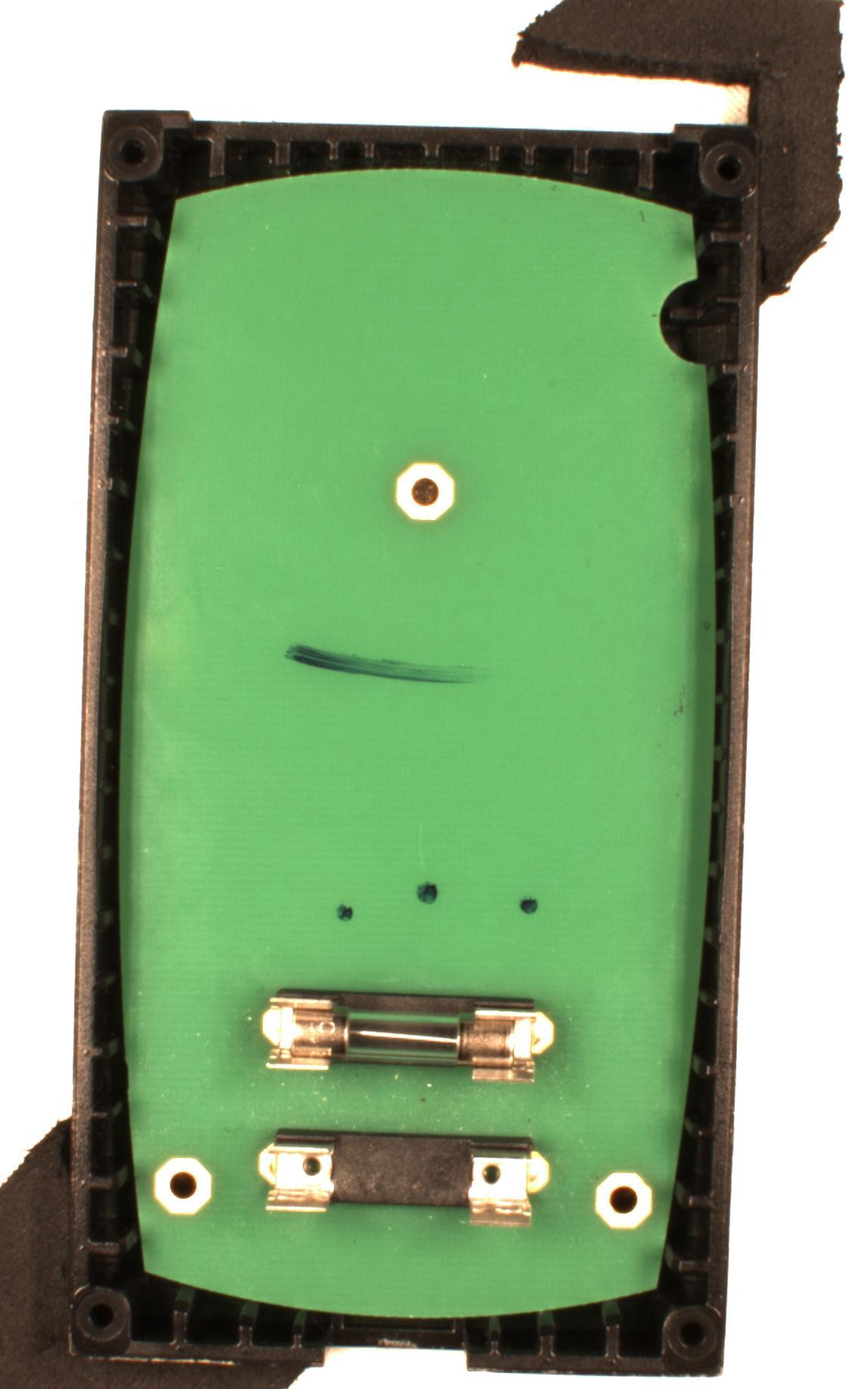Linijsko Ostecene: (278, 639, 497, 694)
Nepostojanje osiguraca: (257, 1126, 556, 1229)
Tockasto Ostecenje: (414, 880, 439, 906), (333, 902, 360, 922), (518, 894, 540, 915)
